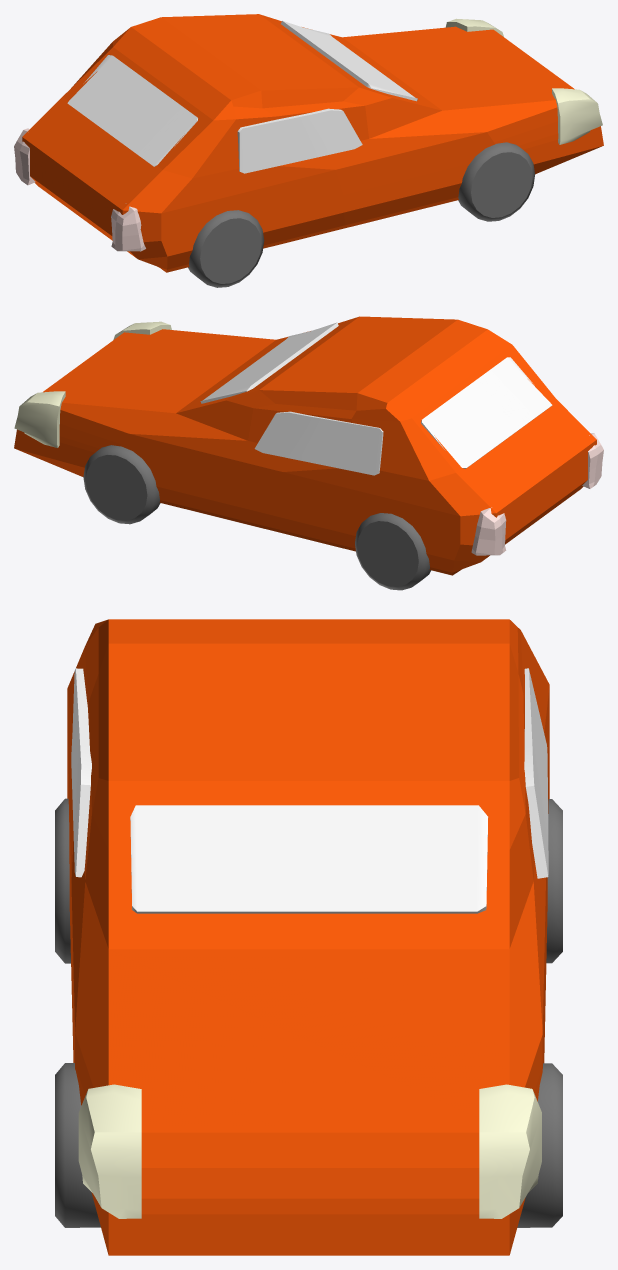
File: CarroRojo.fbx
The picture shows the model from 3 angles, top to bottom: view 1: azimuth 30°, elevation 25°; view 2: azimuth 150°, elevation 25°; view 3: azimuth 270°, elevation 25°; orthographic projection. The views are drawn at different scales.
Parts seen in each view (by area): view 1: pCube1, pCube10, pCube8, pCylinder1, pCylinder2, pCube9, pCube6, pCube11; view 2: pCube1, pCube10, pCube12, pCylinder3, pCylinder4, pCube9, pCube6, pCube11; view 3: pCube1, pCube6, pCube9, pCylinder1, pCylinder3, pCube12, pCube8, pCylinder4, pCylinder2.
Part boxes in pixels (left/top/right/bottom): pCube1: left=22, top=14, right=603, bottom=272; pCube10: left=67, top=55, right=197, bottom=166; pCube8: left=237, top=108, right=362, bottom=173; pCylinder1: left=458, top=142, right=534, bottom=221; pCylinder2: left=188, top=210, right=264, bottom=287; pCube9: left=445, top=18, right=602, bottom=144; pCube6: left=281, top=20, right=417, bottom=101; pCube11: left=14, top=128, right=145, bottom=251; pCube1: left=14, top=316, right=596, bottom=575; pCube10: left=421, top=357, right=552, bottom=468; pCube12: left=254, top=411, right=383, bottom=475; pCylinder3: left=83, top=445, right=160, bottom=524; pCylinder4: left=355, top=513, right=431, bottom=590; pCube9: left=14, top=321, right=171, bottom=447; pCube6: left=200, top=322, right=338, bottom=403; pCube11: left=471, top=433, right=603, bottom=555; pCube1: left=67, top=619, right=549, bottom=1255; pCube6: left=130, top=805, right=488, bottom=913; pCube9: left=78, top=1084, right=541, bottom=1218; pCylinder1: left=55, top=1063, right=100, bottom=1227; pCylinder3: left=517, top=1063, right=562, bottom=1227; pCube12: left=524, top=668, right=548, bottom=878; pCube8: left=71, top=668, right=91, bottom=877; pCylinder4: left=546, top=799, right=562, bottom=963; pCylinder2: left=55, top=798, right=70, bottom=963.
Size of the model in its own units: 24.46 by 8.56 by 11.09.
